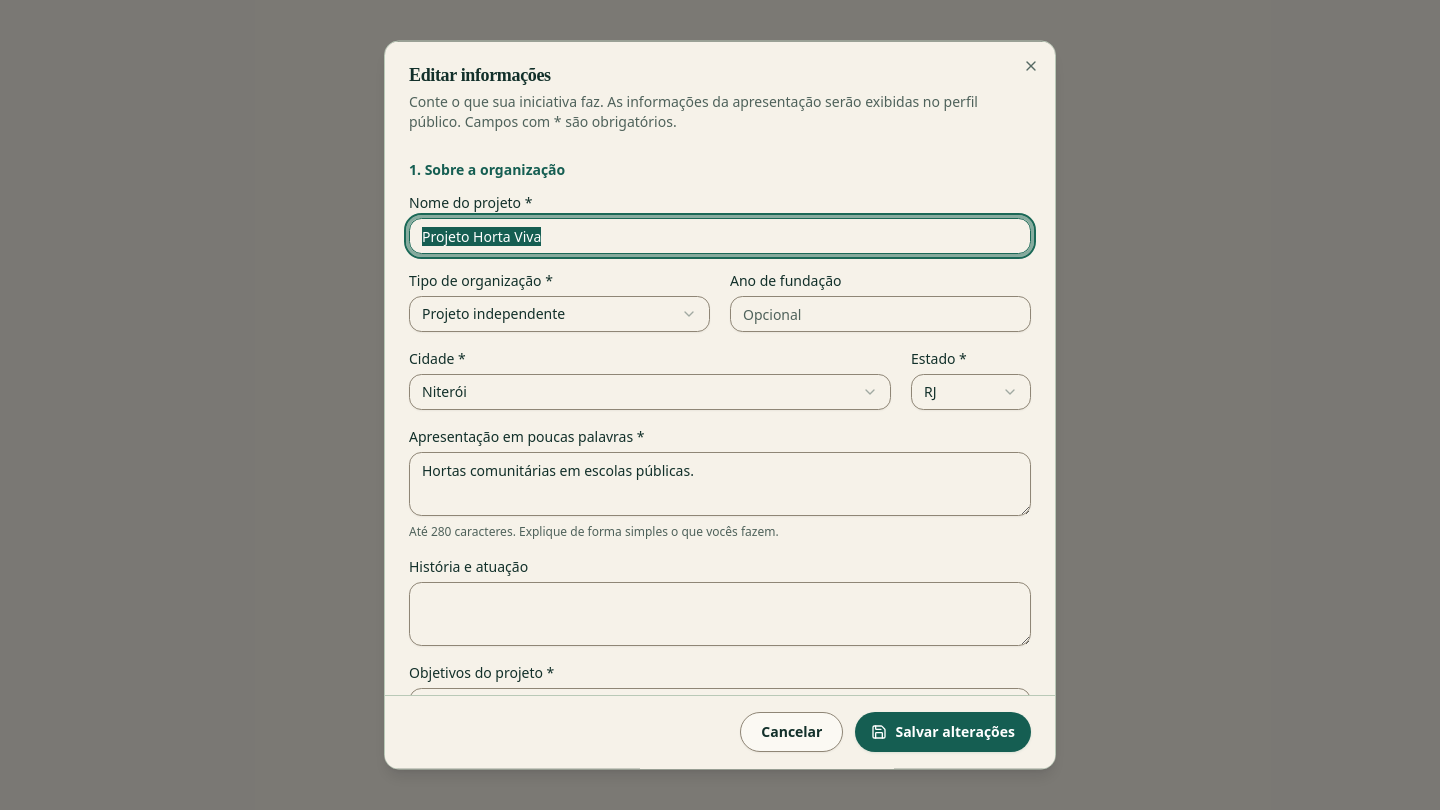
Test: editor de organização › sem áreas, descreve o grupo, marca as opções e foca a primeira
Step 1. Click the button "Salvar alterações" → (943, 732), box [855,712,1031,752]
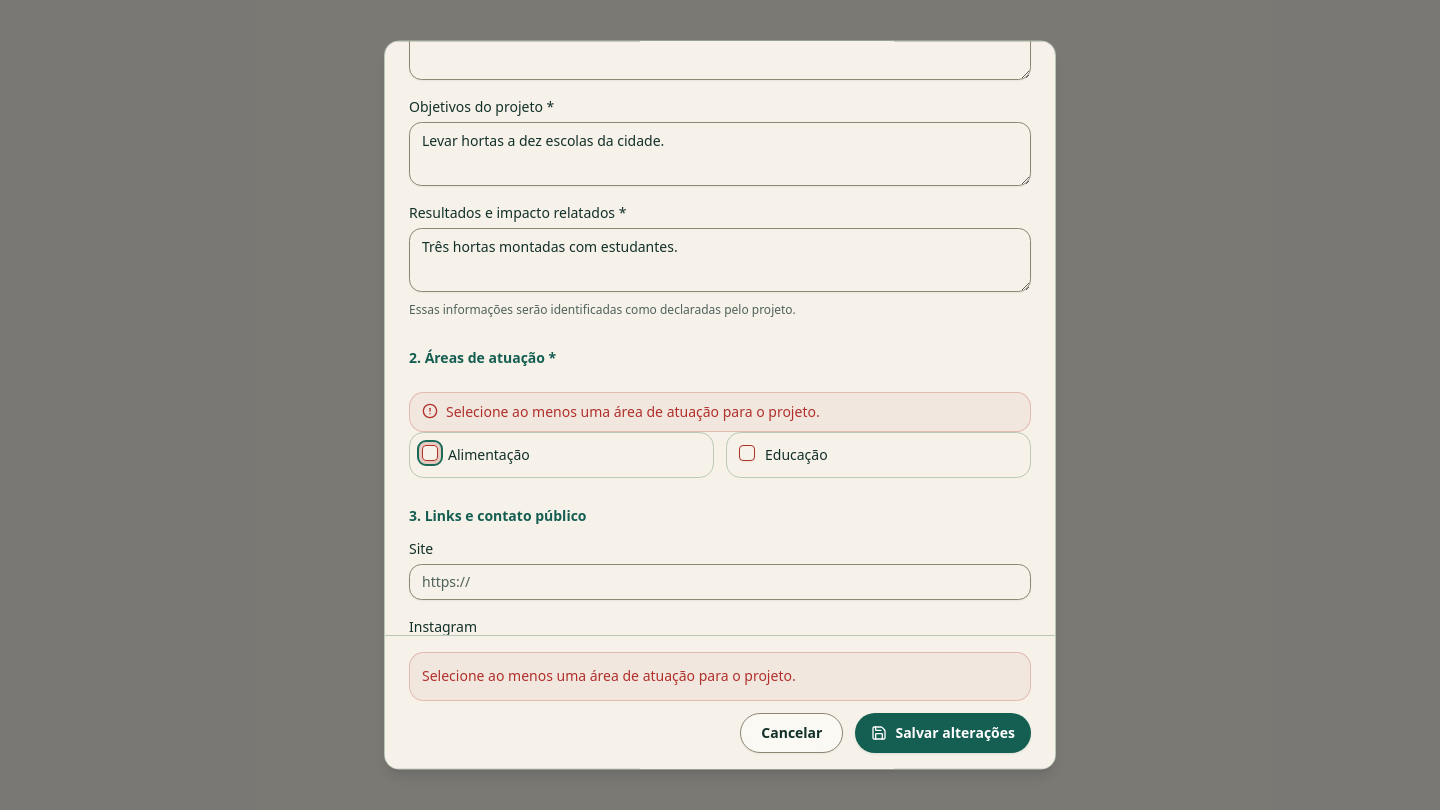
Step 2. Click the checkbox named "Alimentação" next to "Alimentação" → (430, 454), box [422,446,438,462]
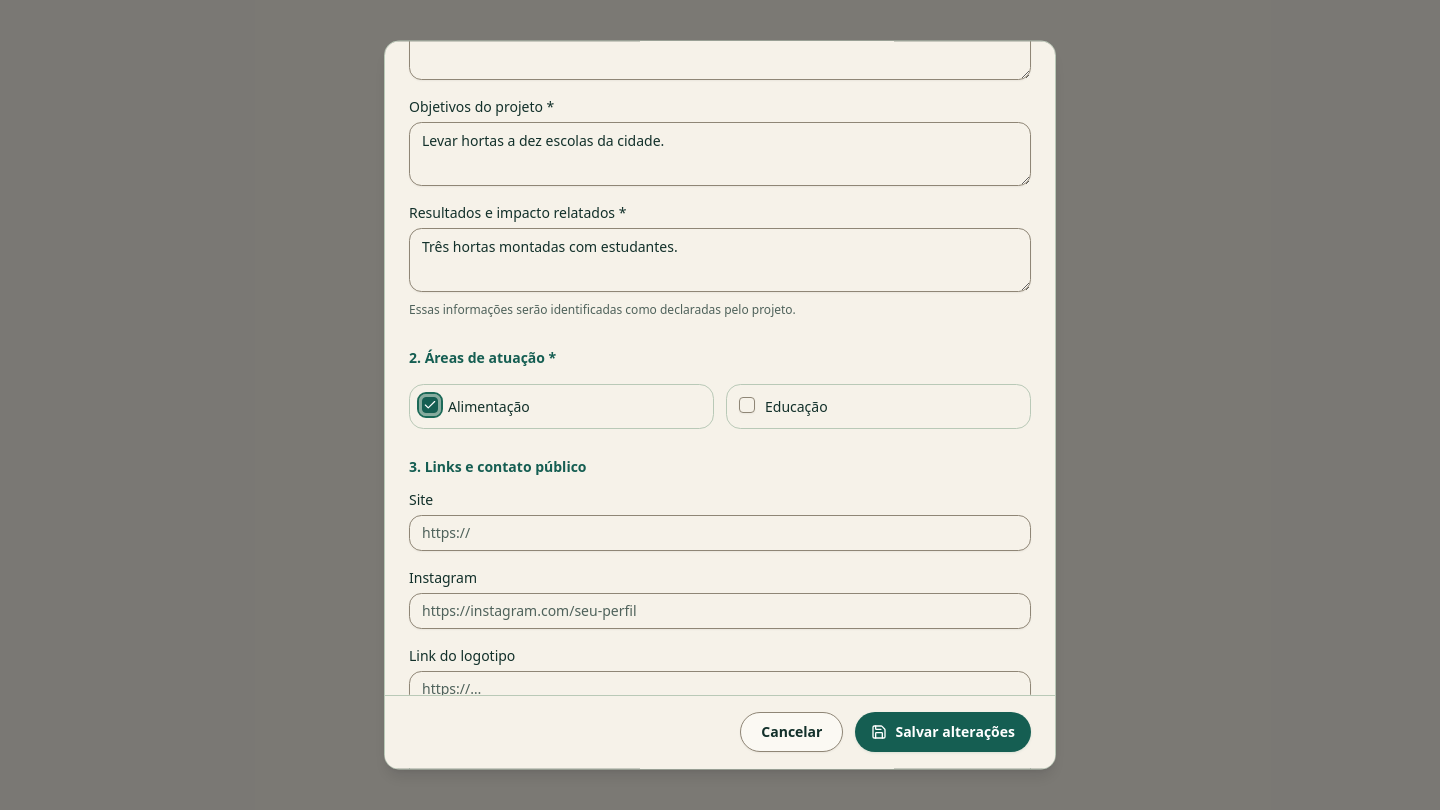
Check: the message "Selecione ao menos uma área de atuação para o projeto." is gone
